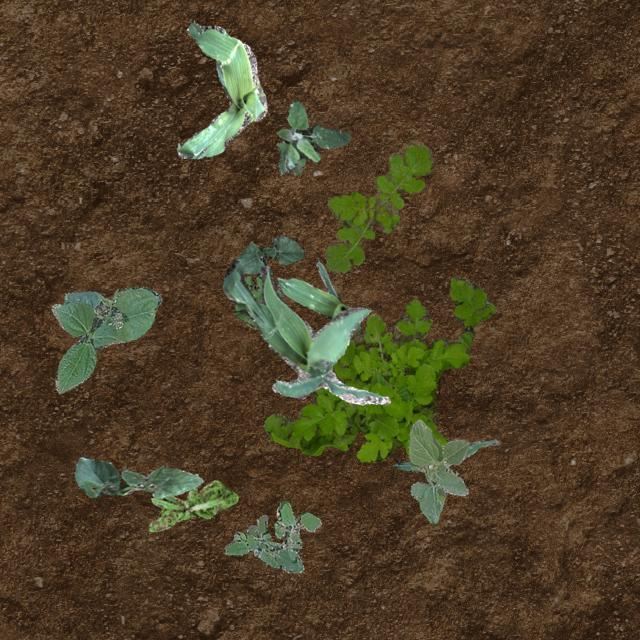crop: (222, 260, 390, 404), (176, 21, 266, 158), (51, 286, 160, 392), (408, 418, 468, 522), (276, 260, 360, 330), (72, 456, 202, 498), (392, 438, 498, 470), (234, 234, 304, 274)
weed: (262, 274, 494, 460), (323, 140, 432, 272), (276, 100, 350, 174), (224, 514, 302, 572), (148, 480, 238, 530), (274, 499, 320, 544), (232, 274, 262, 328)
